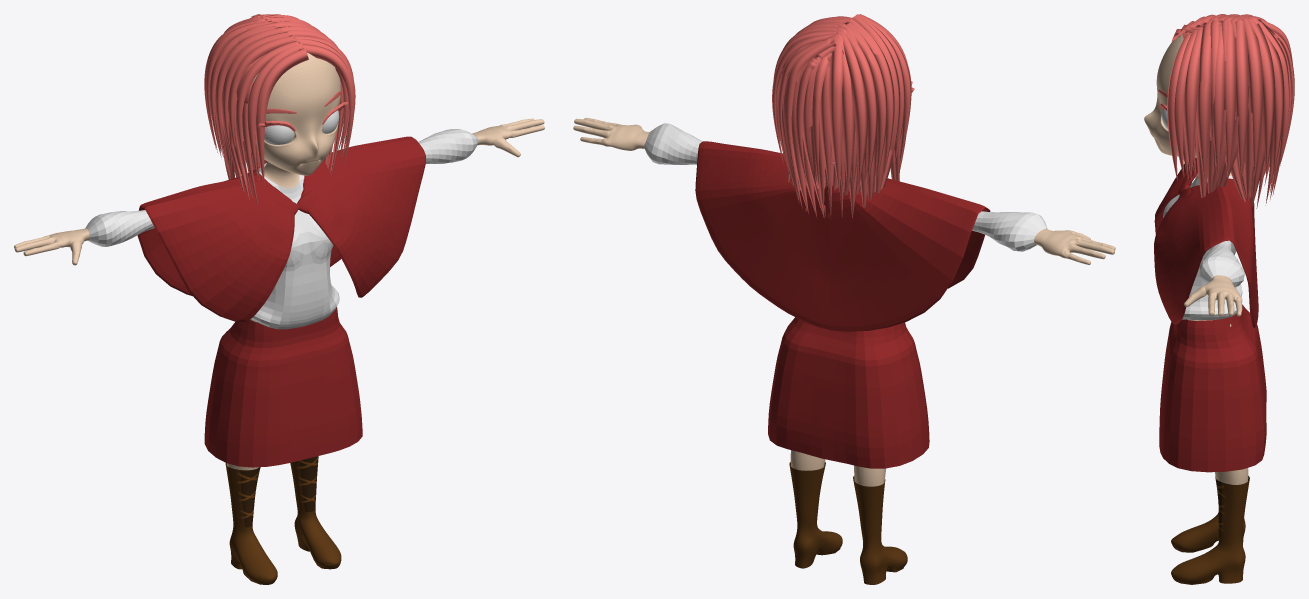
File: Player.fbx
3 renders of one model, left to right at view 1: azimuth 30°, elevation 25°; view 2: azimuth 150°, elevation 25°; view 3: azimuth 270°, elevation 25°, orthographic. The views are drawn at different scales.
Visible parts, largest first — view 1: cape, skirt, NURBSパス.002, shirt, body, shoes, medama; view 2: cape, NURBSパス.002, skirt, shoes, body, shirt; view 3: NURBSパス.002, skirt, cape, shoes, body, shirt.
Part boxes in pixels (left/top/right/bottom): cape: left=137, top=136, right=425, bottom=322; skirt: left=204, top=307, right=362, bottom=467; NURBSパス.002: left=204, top=14, right=355, bottom=204; shirt: left=85, top=129, right=478, bottom=329; body: left=14, top=52, right=544, bottom=470; shoes: left=225, top=456, right=341, bottom=584; medama: left=264, top=110, right=339, bottom=144; cape: left=695, top=141, right=990, bottom=331; NURBSパス.002: left=772, top=14, right=911, bottom=218; skirt: left=768, top=317, right=929, bottom=468; shoes: left=789, top=462, right=907, bottom=584; body: left=573, top=117, right=1115, bottom=486; shirt: left=644, top=123, right=1047, bottom=251; NURBSパス.002: left=1167, top=14, right=1294, bottom=213; skirt: left=1159, top=304, right=1266, bottom=472; cape: left=1154, top=157, right=1258, bottom=327; shoes: left=1171, top=476, right=1249, bottom=584; body: left=1144, top=34, right=1248, bottom=484; shirt: left=1163, top=173, right=1244, bottom=319.
Size of the model in its own units: 153 by 148 by 37.15.
